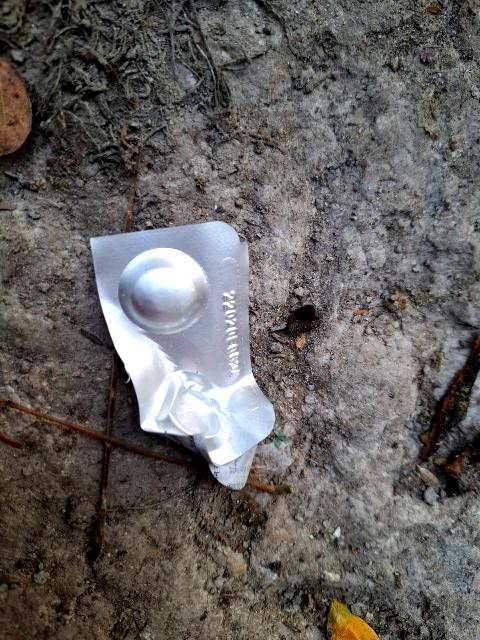medicine: (94, 222, 279, 451)
